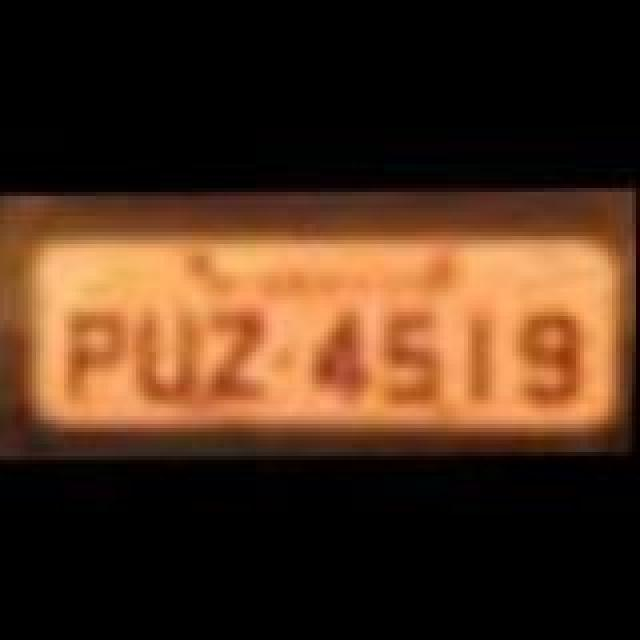1: (464, 300, 504, 396)
4: (306, 300, 374, 400)
5: (378, 304, 446, 408)
9: (514, 306, 582, 406)
P: (58, 304, 126, 408)
U: (132, 304, 204, 408)
Z: (204, 300, 276, 404)
